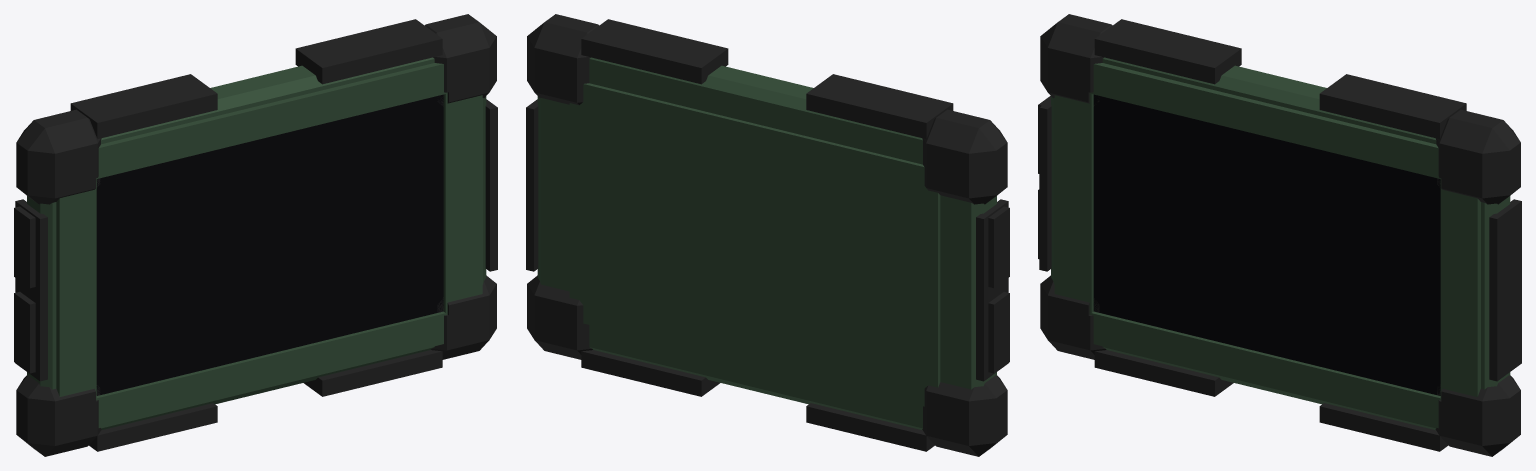
File: tablet.glb
3 renders of one model, left to right at view 1: azimuth 30°, elevation 25°; view 2: azimuth 150°, elevation 25°; view 3: azimuth 330°, elevation 25°, orthographic.
Visible parts, largest first — view 1: PROP_Tablet; view 2: PROP_Tablet; view 3: PROP_Tablet.
Boxes of the visible parts, x1=… form: PROP_Tablet: x1=14, y1=14, x2=497, y2=456; PROP_Tablet: x1=526, y1=14, x2=1009, y2=456; PROP_Tablet: x1=1038, y1=14, x2=1521, y2=456.
Bounding box in the file's own units: 0.242 × 0.162 × 0.028.
